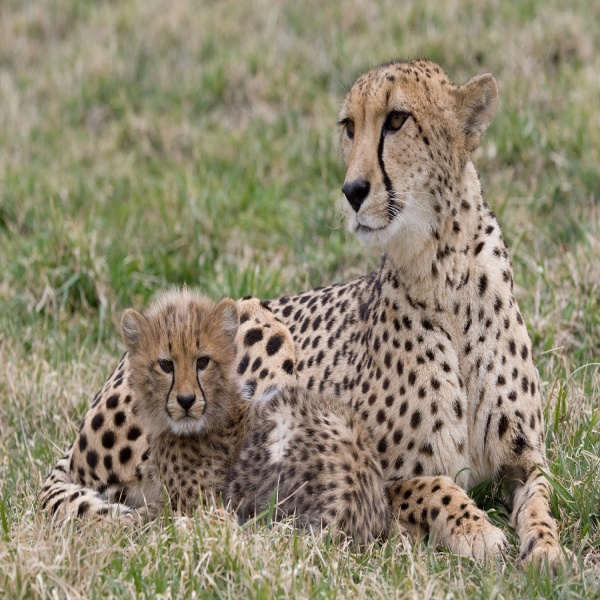Cheetah: (42, 57, 577, 578), (118, 281, 399, 550)
